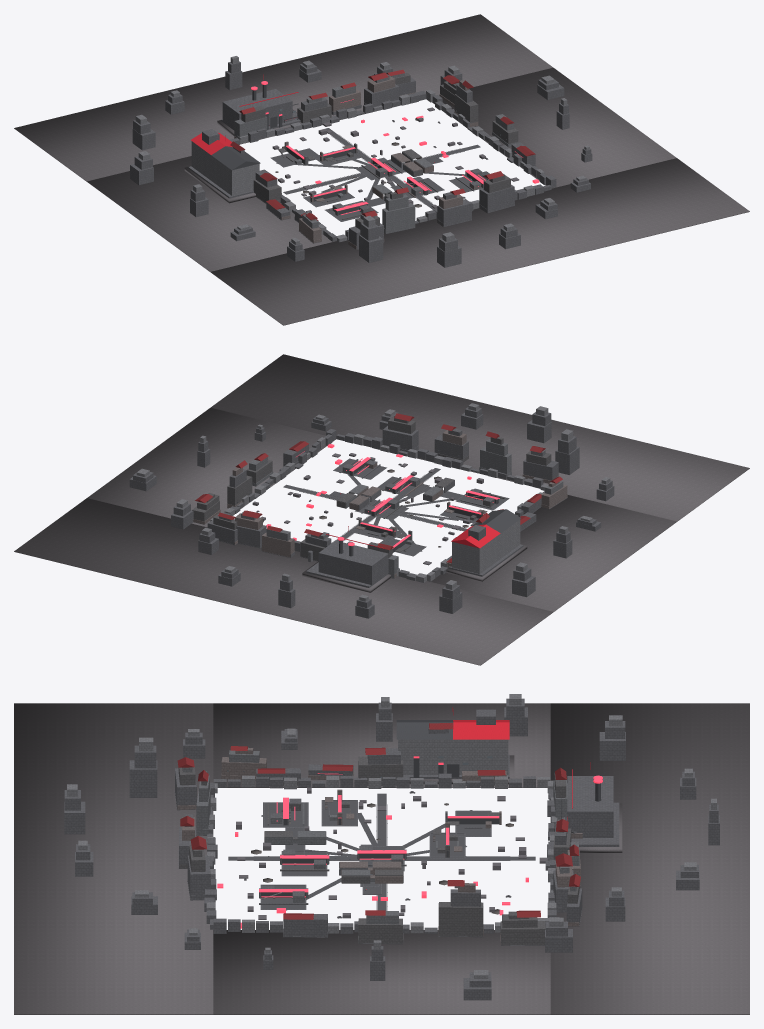
3 views of the same model, one above another, from view 1: azimuth 30°, elevation 25°; view 2: azimuth 150°, elevation 25°; view 3: azimuth 270°, elevation 25° (orthographic). The views are drawn at different scales.
Parts seen in each view (by area): view 1: HB_z06_LOD1_terrain, HB_z06_LOD1_wall_alt, HB_z06_LOD1_wall_weathered, HB_z06_LOD1_road, HB_z06_LOD1_wall_cool, HB_z06_LOD1_wall, HB_z06_LOD1_wall_warm, HB_z06_LOD1_LANDMARK_1_wall, HB_z06_LOD1_LANDMARK_0_wall_alt, HB_z06_LOD1_roof, HB_z06_LOD1_obstacle, HB_z06_LOD1_emissive (+2 smaller); view 2: HB_z06_LOD1_terrain, HB_z06_LOD1_wall_alt, HB_z06_LOD1_wall_weathered, HB_z06_LOD1_road, HB_z06_LOD1_wall, HB_z06_LOD1_wall_cool, HB_z06_LOD1_wall_warm, HB_z06_LOD1_LANDMARK_0_wall_alt, HB_z06_LOD1_LANDMARK_1_wall, HB_z06_LOD1_roof, HB_z06_LOD1_emissive, HB_z06_LOD1_obstacle (+3 smaller); view 3: HB_z06_LOD1_terrain, HB_z06_LOD1_wall_alt, HB_z06_LOD1_wall_weathered, HB_z06_LOD1_road, HB_z06_LOD1_wall, HB_z06_LOD1_wall_warm, HB_z06_LOD1_LANDMARK_1_wall, HB_z06_LOD1_wall_cool, HB_z06_LOD1_LANDMARK_0_wall_alt, HB_z06_LOD1_roof, HB_z06_LOD1_emissive, HB_z06_LOD1_obstacle (+3 smaller).
Part boxes in pixels (x1=…): HB_z06_LOD1_terrain: x1=14, y1=14, x2=749, y2=325; HB_z06_LOD1_wall_alt: x1=130, y1=61, x2=592, y2=267; HB_z06_LOD1_wall_weathered: x1=241, y1=73, x2=518, y2=229; HB_z06_LOD1_road: x1=272, y1=128, x2=488, y2=221; HB_z06_LOD1_wall_cool: x1=234, y1=73, x2=518, y2=233; HB_z06_LOD1_wall: x1=135, y1=56, x2=589, y2=244; HB_z06_LOD1_wall_warm: x1=234, y1=76, x2=481, y2=249; HB_z06_LOD1_LANDMARK_1_wall: x1=191, y1=141, x2=259, y2=195; HB_z06_LOD1_LANDMARK_0_wall_alt: x1=221, y1=89, x2=300, y2=130; HB_z06_LOD1_roof: x1=230, y1=69, x2=535, y2=220; HB_z06_LOD1_obstacle: x1=268, y1=107, x2=519, y2=213; HB_z06_LOD1_emissive: x1=286, y1=99, x2=539, y2=214; HB_z06_LOD1_terrain: x1=14, y1=354, x2=749, y2=665; HB_z06_LOD1_wall_alt: x1=129, y1=407, x2=614, y2=618; HB_z06_LOD1_wall_weathered: x1=192, y1=415, x2=551, y2=561; HB_z06_LOD1_road: x1=283, y1=459, x2=508, y2=555; HB_z06_LOD1_wall: x1=136, y1=403, x2=610, y2=601; HB_z06_LOD1_wall_cool: x1=219, y1=439, x2=563, y2=578; HB_z06_LOD1_wall_warm: x1=193, y1=430, x2=567, y2=577; HB_z06_LOD1_LANDMARK_0_wall_alt: x1=306, y1=540, x2=388, y2=587; HB_z06_LOD1_LANDMARK_1_wall: x1=452, y1=519, x2=520, y2=574; HB_z06_LOD1_roof: x1=195, y1=413, x2=562, y2=563; HB_z06_LOD1_emissive: x1=266, y1=444, x2=499, y2=548; HB_z06_LOD1_obstacle: x1=233, y1=453, x2=483, y2=565; HB_z06_LOD1_terrain: x1=14, y1=703, x2=749, y2=1014; HB_z06_LOD1_wall_alt: x1=64, y1=698, x2=719, y2=1000; HB_z06_LOD1_wall_weathered: x1=178, y1=756, x2=579, y2=945; HB_z06_LOD1_road: x1=228, y1=793, x2=535, y2=910; HB_z06_LOD1_wall: x1=67, y1=694, x2=716, y2=978; HB_z06_LOD1_wall_warm: x1=177, y1=747, x2=582, y2=944; HB_z06_LOD1_LANDMARK_1_wall: x1=398, y1=739, x2=508, y2=774; HB_z06_LOD1_wall_cool: x1=182, y1=750, x2=579, y2=943; HB_z06_LOD1_LANDMARK_0_wall_alt: x1=561, y1=776, x2=619, y2=846; HB_z06_LOD1_roof: x1=177, y1=723, x2=580, y2=919; HB_z06_LOD1_emissive: x1=217, y1=773, x2=528, y2=928; HB_z06_LOD1_obstacle: x1=236, y1=787, x2=564, y2=919.
Bounding box in the file's own units: 628 × 65.34 × 628.
Materials: 14 (12 with a texture image).
